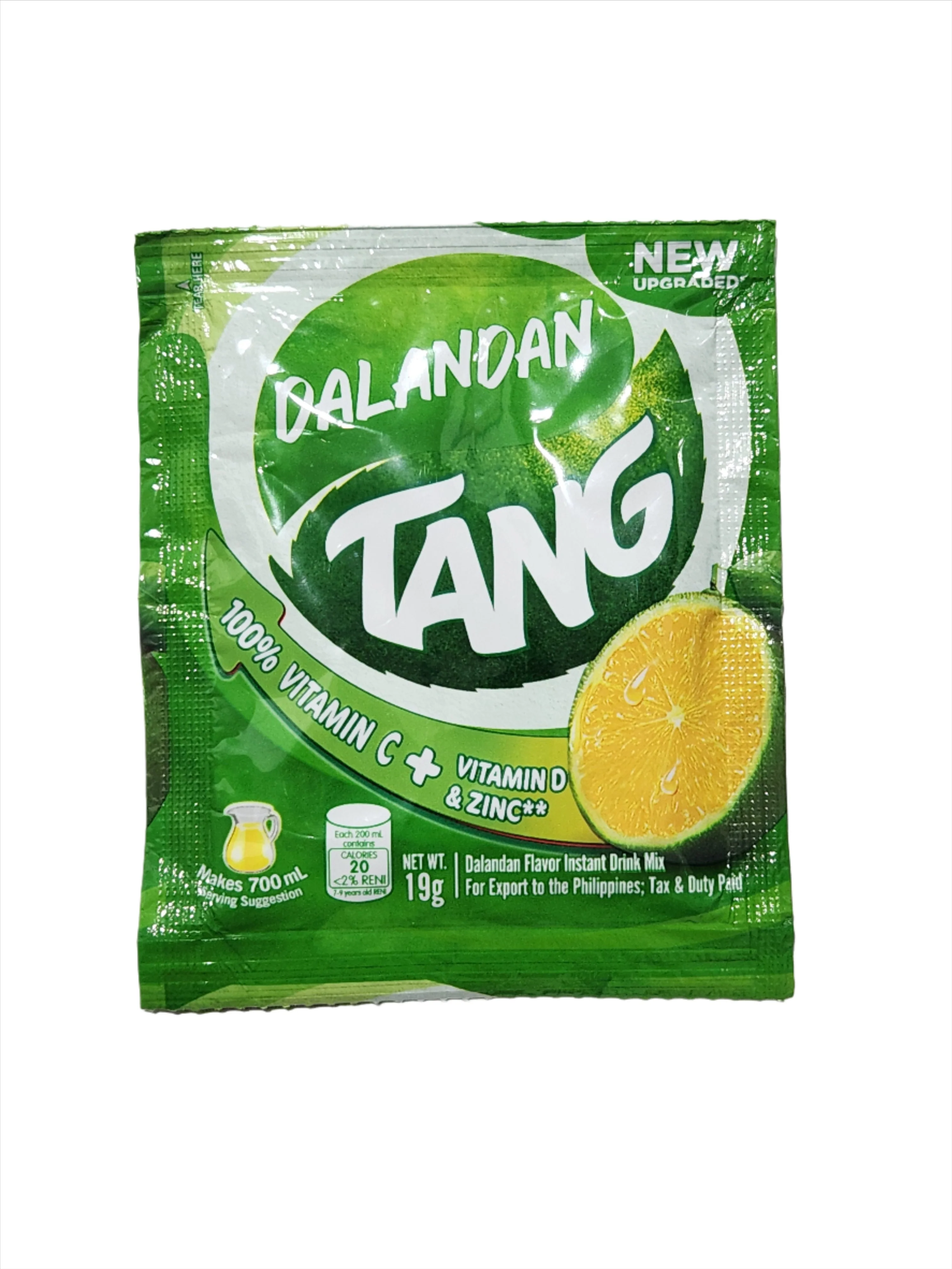toxic_waste: (133, 233, 792, 986)
